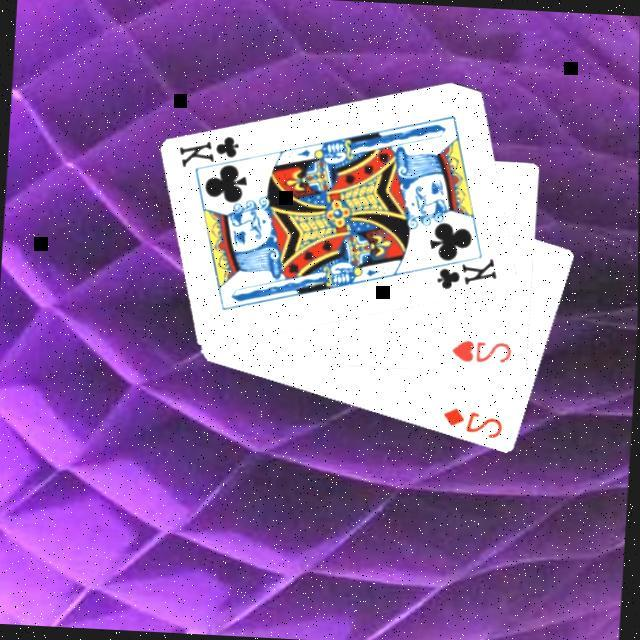2D: (438, 402, 506, 442)
2H: (447, 336, 514, 366)
KC: (174, 129, 252, 177), (423, 248, 500, 294)
